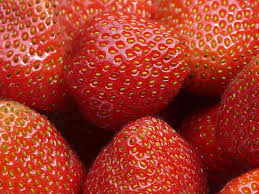Fresa: (66, 9, 194, 132), (80, 113, 213, 194), (153, 1, 259, 100), (1, 94, 90, 194), (1, 1, 73, 116)
